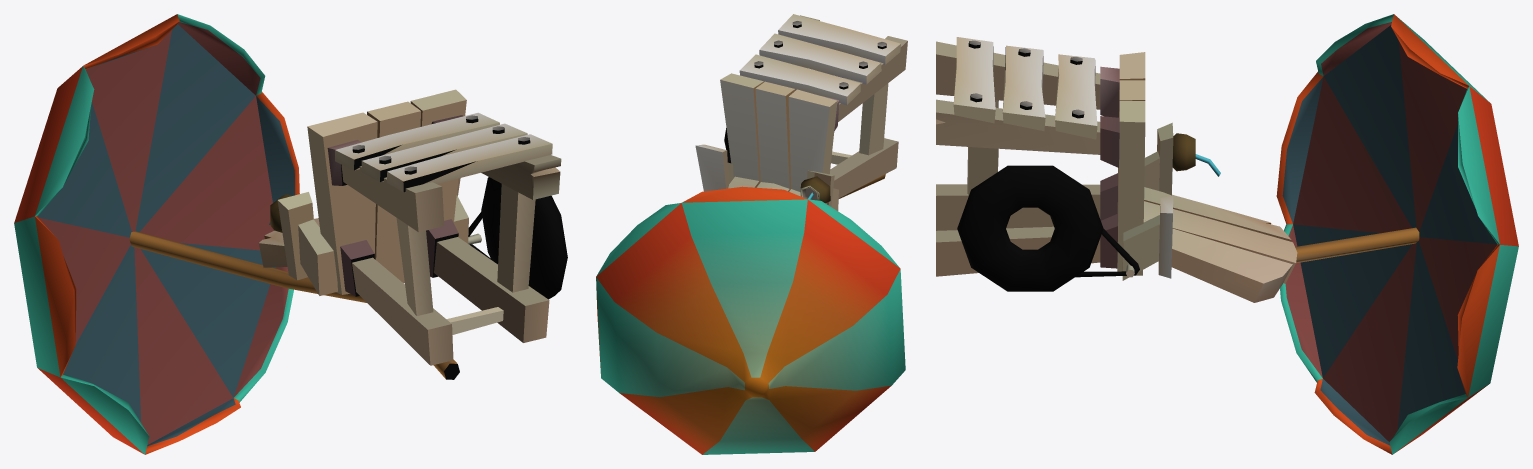
The model's file is LifeguardChair_ORIGINAL.fbx.
3 views of the same model, side by side, from view 1: azimuth 30°, elevation 25°; view 2: azimuth 150°, elevation 25°; view 3: azimuth 270°, elevation 25° (orthographic). The views are drawn at different scales.
Visible parts, largest first — view 1: LifeguardChair; view 2: LifeguardChair; view 3: LifeguardChair.
Boxes of the visible parts, box(x1,y1,x2,y2) form: LifeguardChair: box(14, 14, 567, 454); LifeguardChair: box(596, 14, 907, 454); LifeguardChair: box(936, 14, 1518, 454).
Size of the model in its own units: 92.33 by 99.32 by 133.
